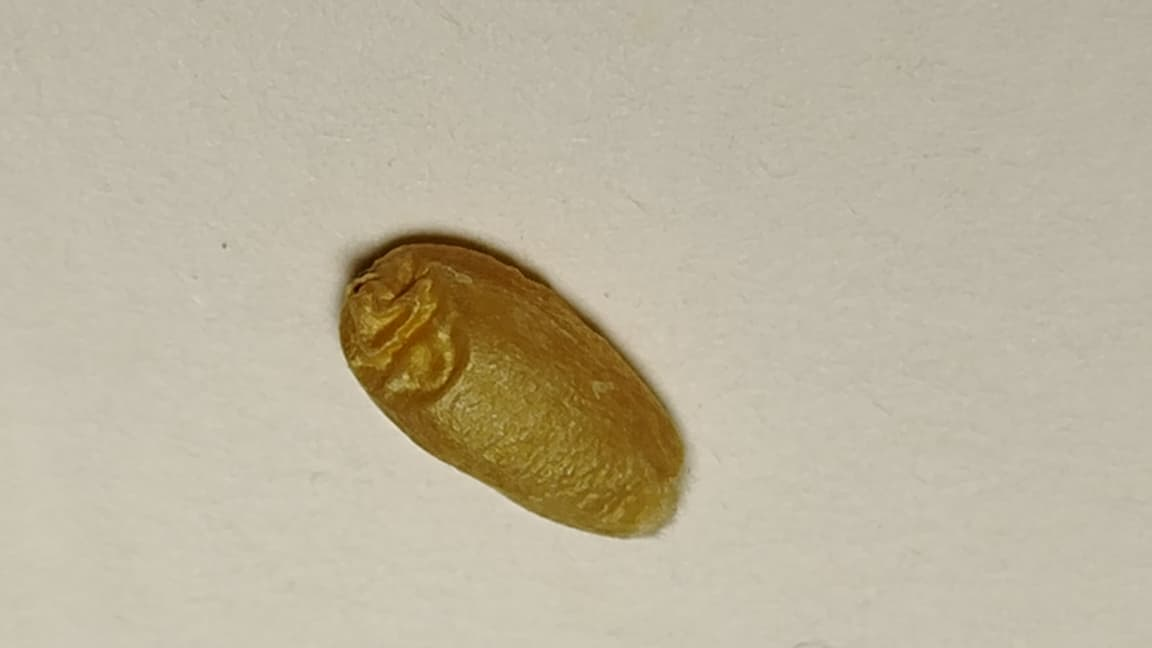healthy: (341, 244, 683, 535)
